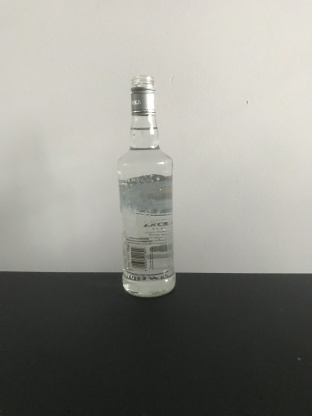nakretka: (128, 74, 157, 116)
